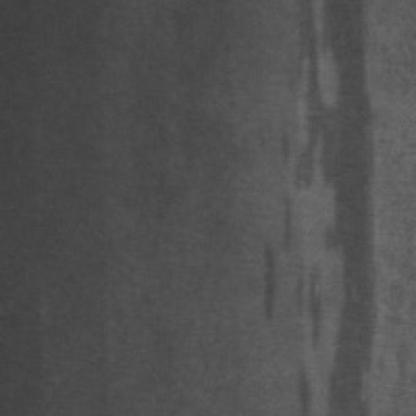inclusion: (279, 6, 374, 416)
